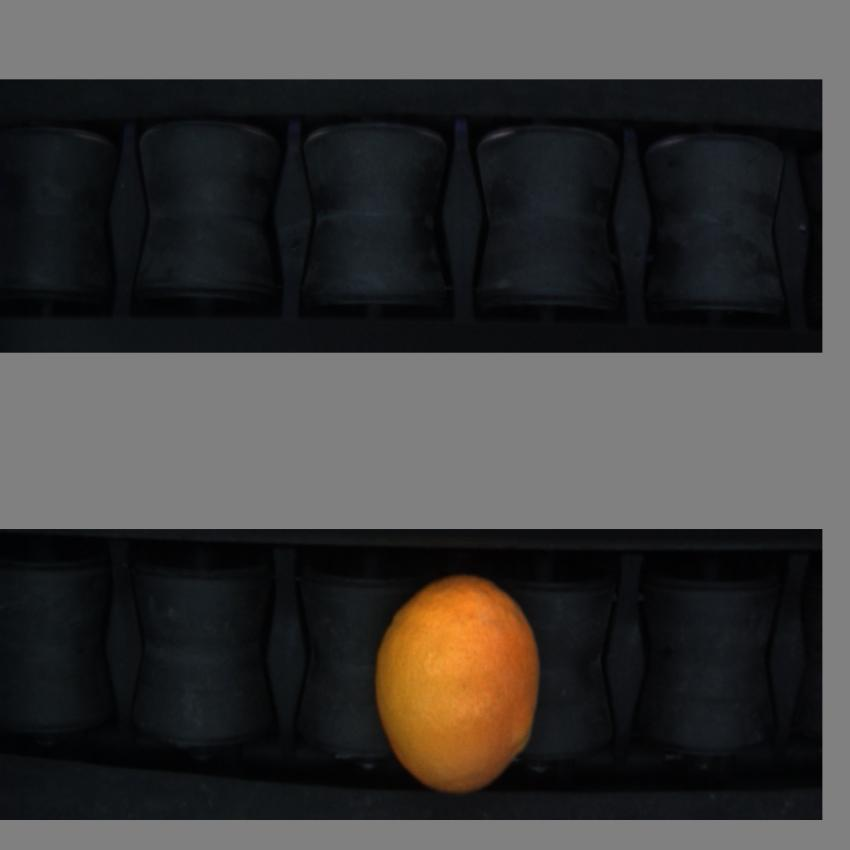Buen estado: (370, 571, 548, 796)
